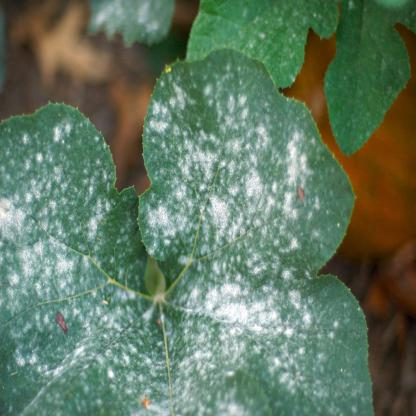squash powdery mildew leaf: (0, 47, 373, 413)
